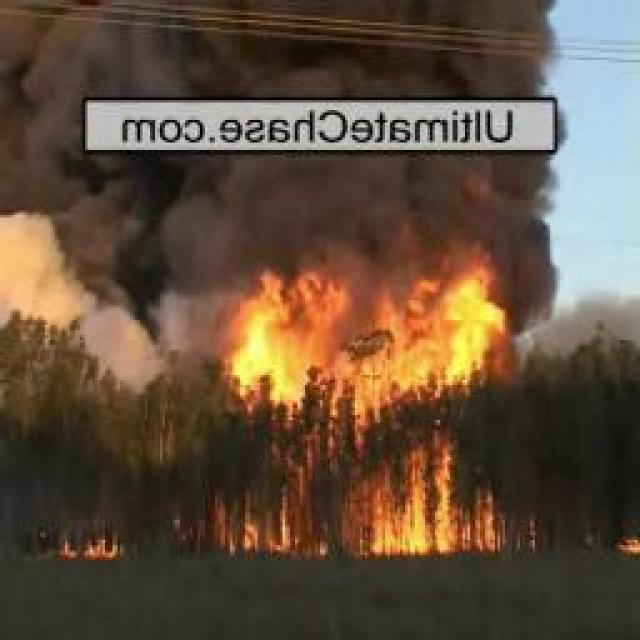Fire: (225, 241, 508, 552), (59, 535, 117, 560), (618, 529, 640, 556)
